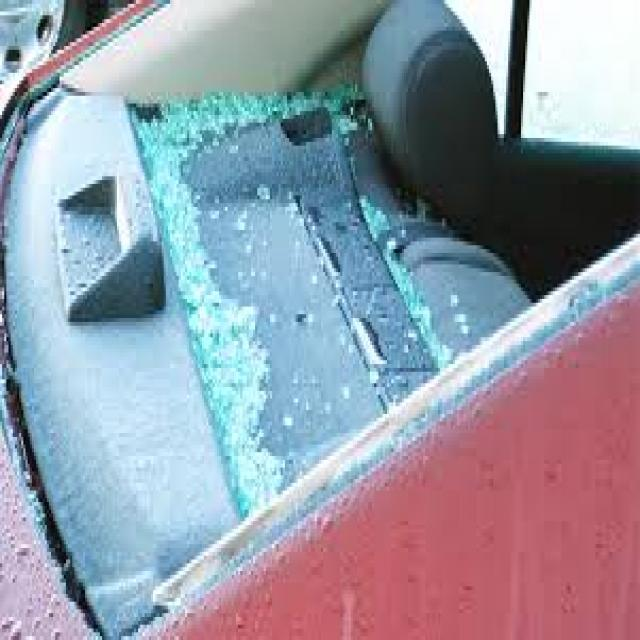minor: (82, 0, 506, 528)
